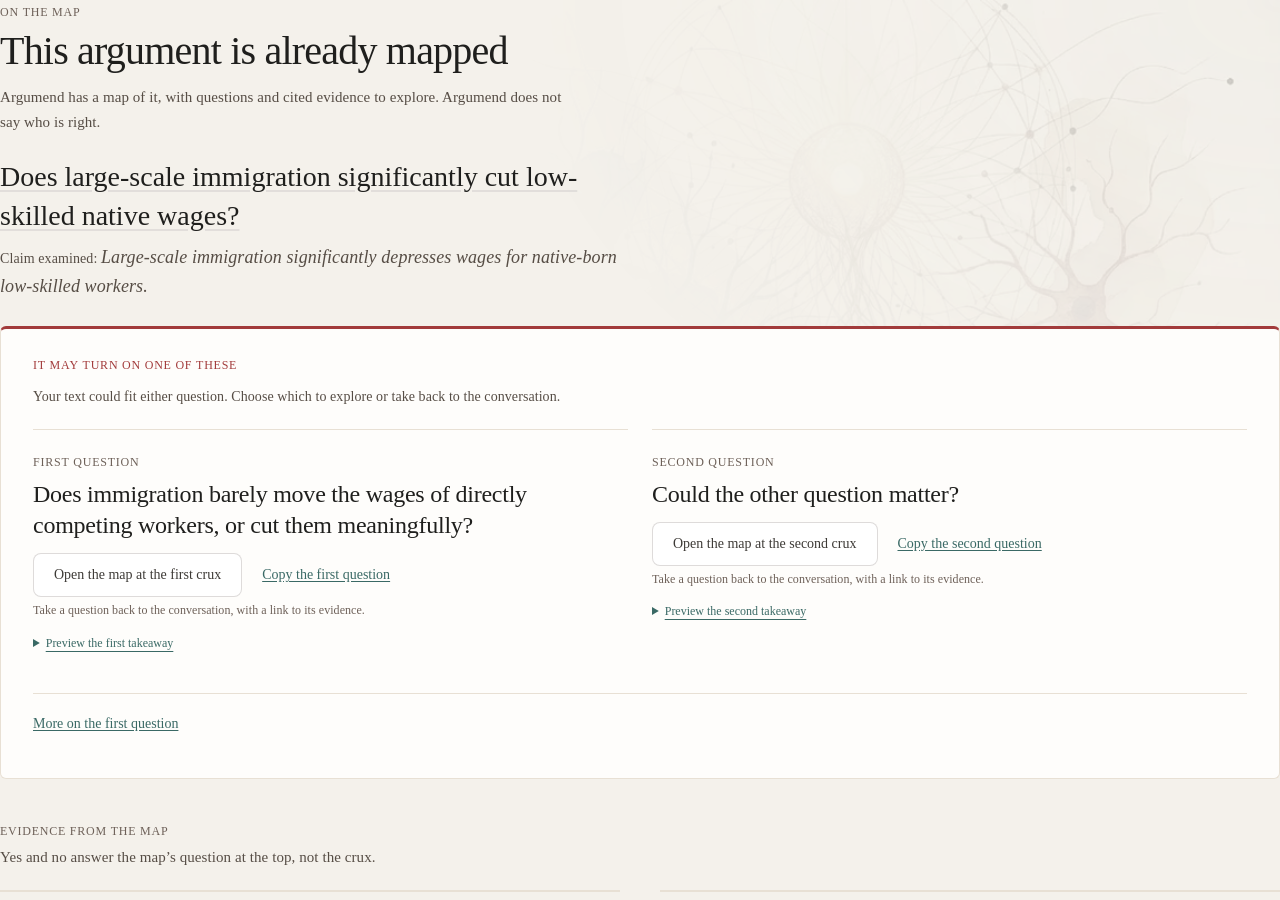
the map block on a phone › keeps a failed copy scoped to its question while the other can still be copied
Click the button "Copy the second question": (970, 544) [898,522,1042,566]
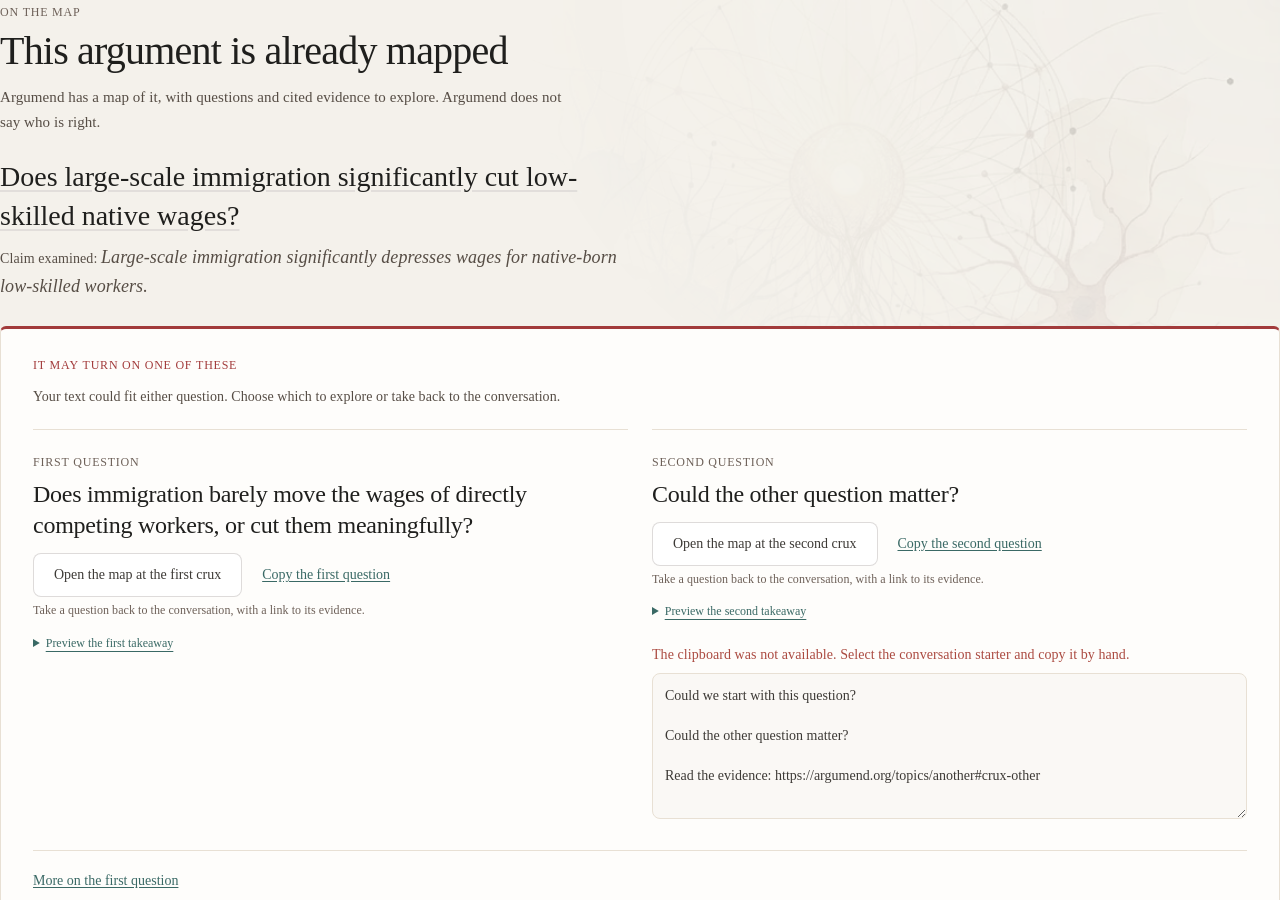
Click the button "Copy the first question": (326, 575) [262,553,390,597]
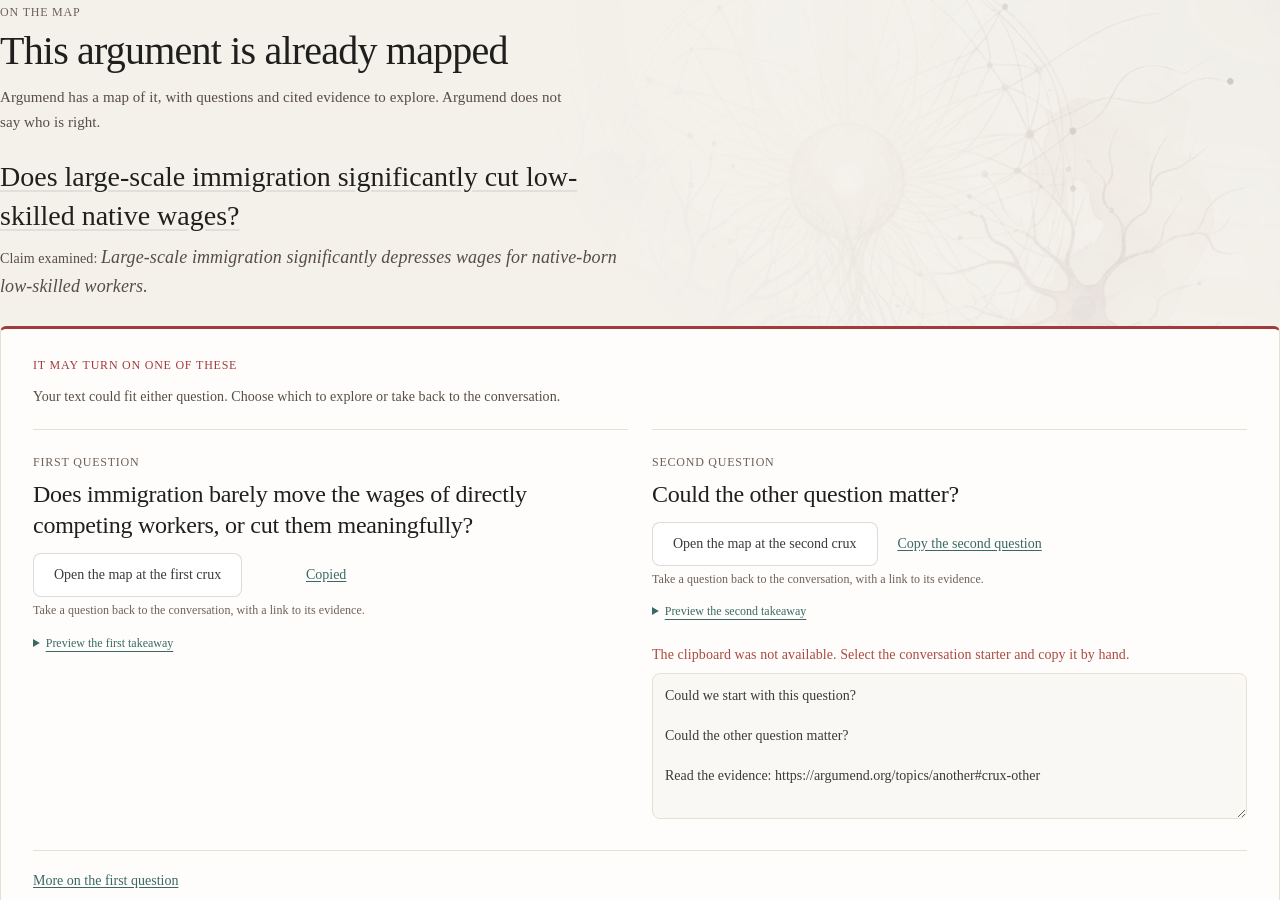
Now the text box named "Second question to copy" is shown, box [652,673,1247,819]
Now the button "Copied" is shown, box [262,553,390,597]
